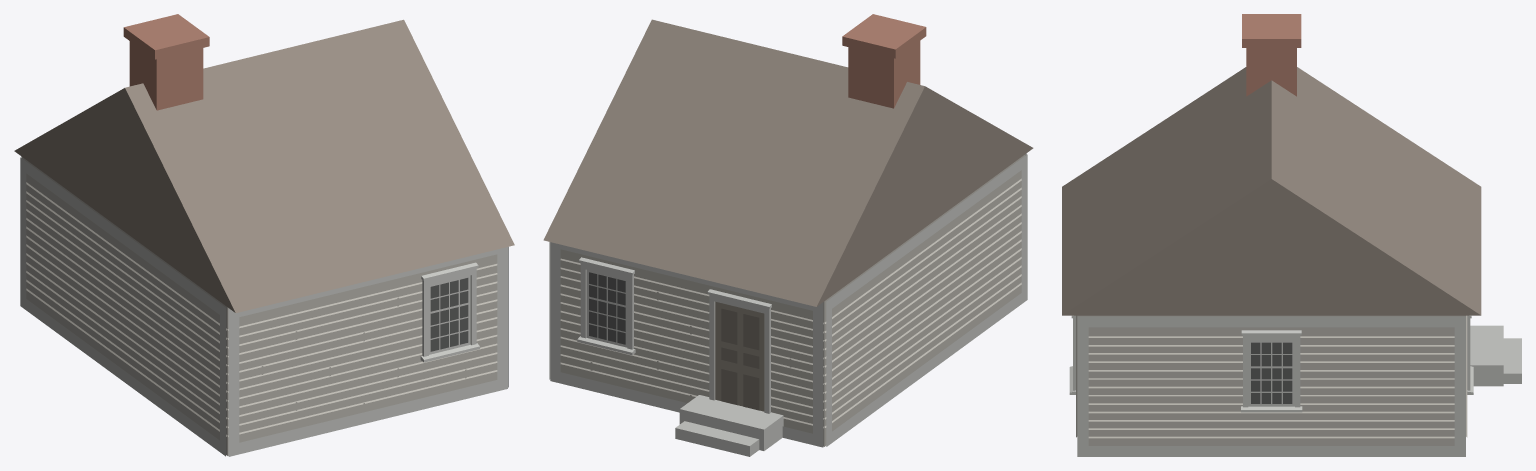
Rendered from recon_1835_blk_lake_clinton_d3_02__inferred_1835.glb.
3 renders of one model, left to right at view 1: azimuth 30°, elevation 25°; view 2: azimuth 150°, elevation 25°; view 3: azimuth 270°, elevation 25°, orthographic. The views are drawn at different scales.
Parts seen in each view (by area): view 1: recon_1835_blk_lake_clinton_d3_02__inferred_1835; view 2: recon_1835_blk_lake_clinton_d3_02__inferred_1835; view 3: recon_1835_blk_lake_clinton_d3_02__inferred_1835.
Part boxes in pixels (x1,y1,x2,y2): recon_1835_blk_lake_clinton_d3_02__inferred_1835: (14,14,514,456); recon_1835_blk_lake_clinton_d3_02__inferred_1835: (543,14,1033,456); recon_1835_blk_lake_clinton_d3_02__inferred_1835: (1062,14,1521,456).
Size of the model in its own units: 5.17 by 5.82 by 7.58.
